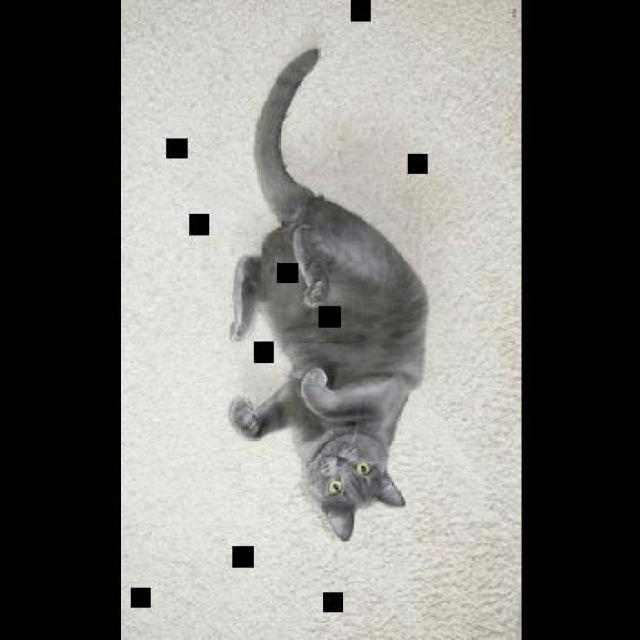unauthorized: (226, 46, 428, 542)
